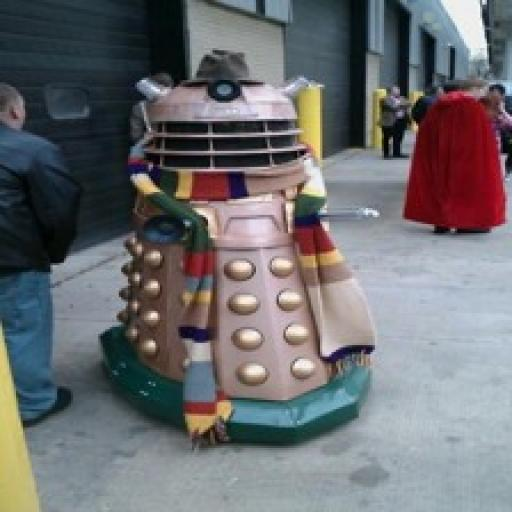dalek: (97, 47, 379, 452)
